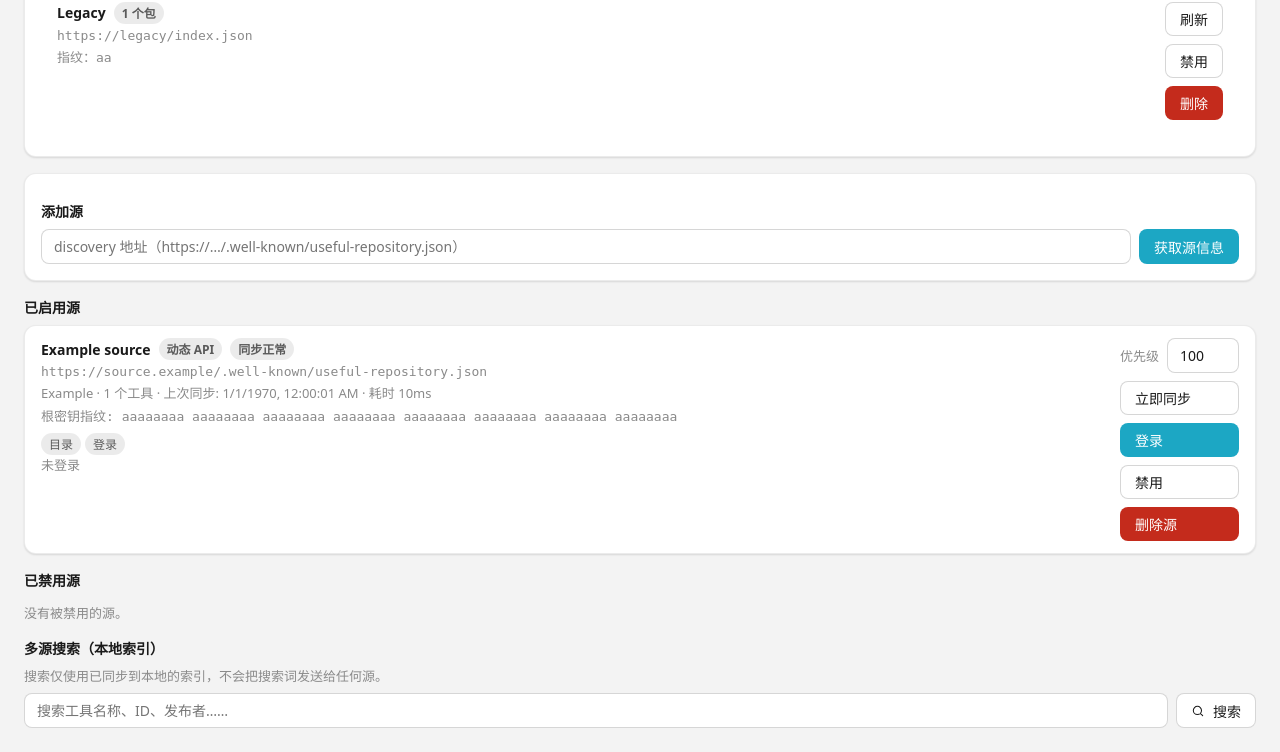
Test: Source Center compatibility source management › shows directory permissions before installation, retains same tool IDs from different publishers, and only displays verified facts after matching origin readbac
(page scrolled)
Type "example" into the field with test id "search-input" at (596, 711), box [24, 693, 1168, 728]
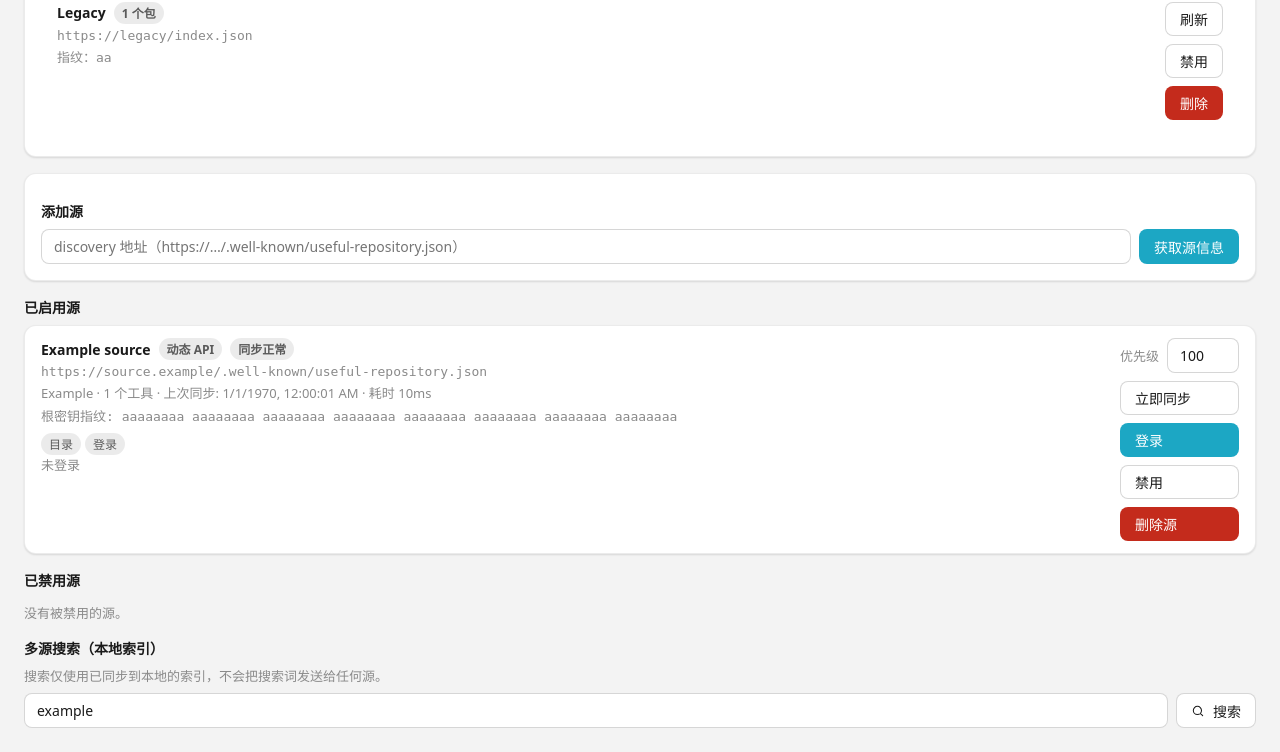
Click the button with test id "search-btn" at (1216, 711), box [1176, 693, 1256, 728]
(page scrolled)
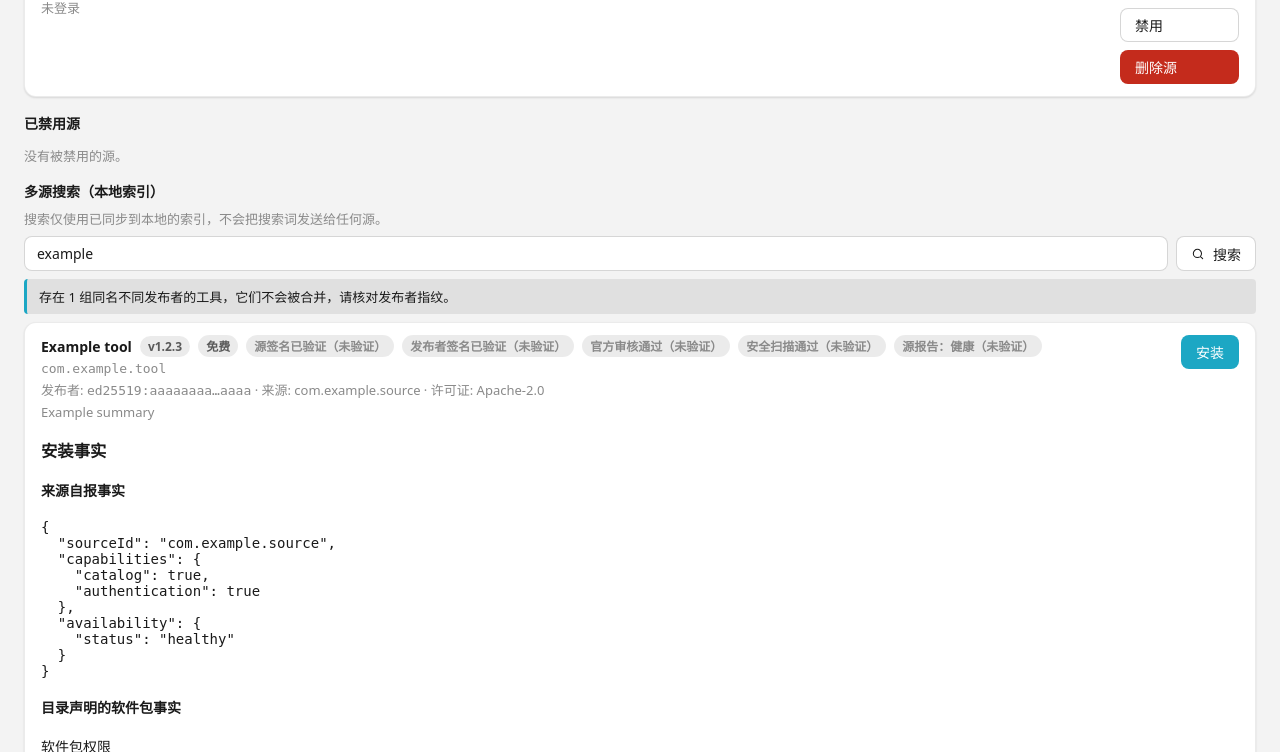
Check: the number of elements with test id "search-result" is 2
Click the button with test id "install-btn" at (1210, 352), box [1181, 335, 1239, 369]
(page scrolled)
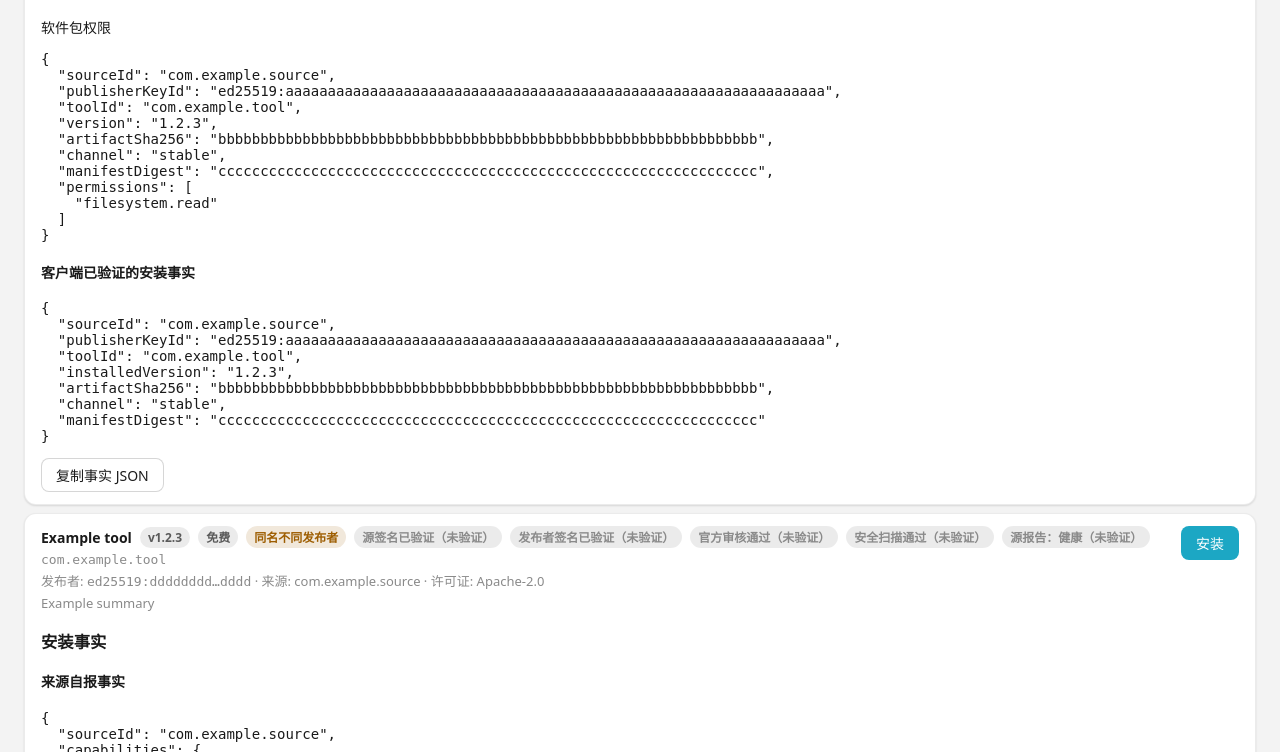
Check: the element with test id "client-verified-facts" shows "客户端已验证的安装事实", box [41, 263, 195, 282]
